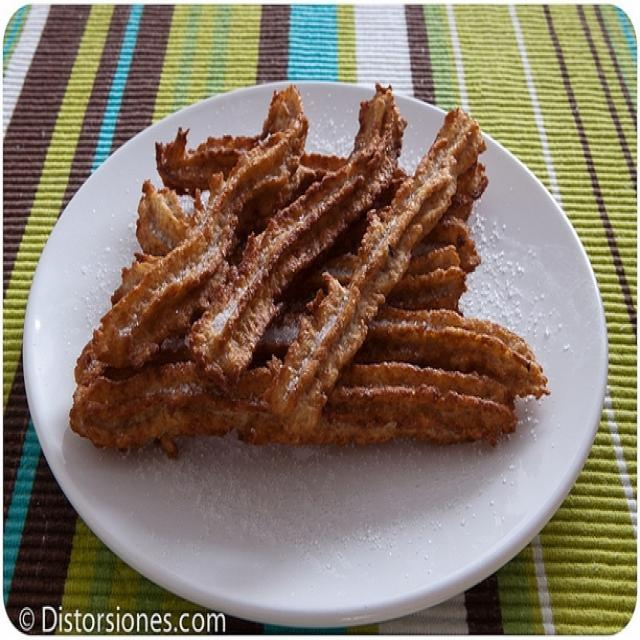炸货点心: (47, 47, 555, 516)
